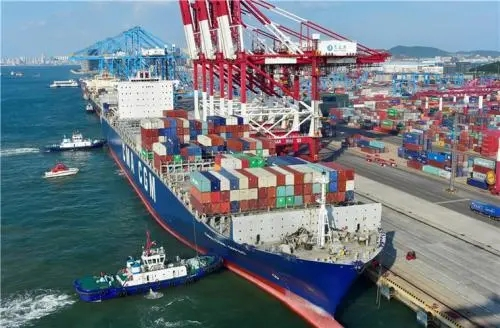Cargoship: (64, 25, 395, 322)
otherboat: (72, 233, 225, 304), (36, 130, 108, 154), (42, 162, 76, 178)
